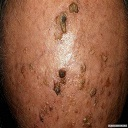Actinic: (52, 2, 80, 39), (49, 68, 72, 96), (36, 106, 50, 120)
